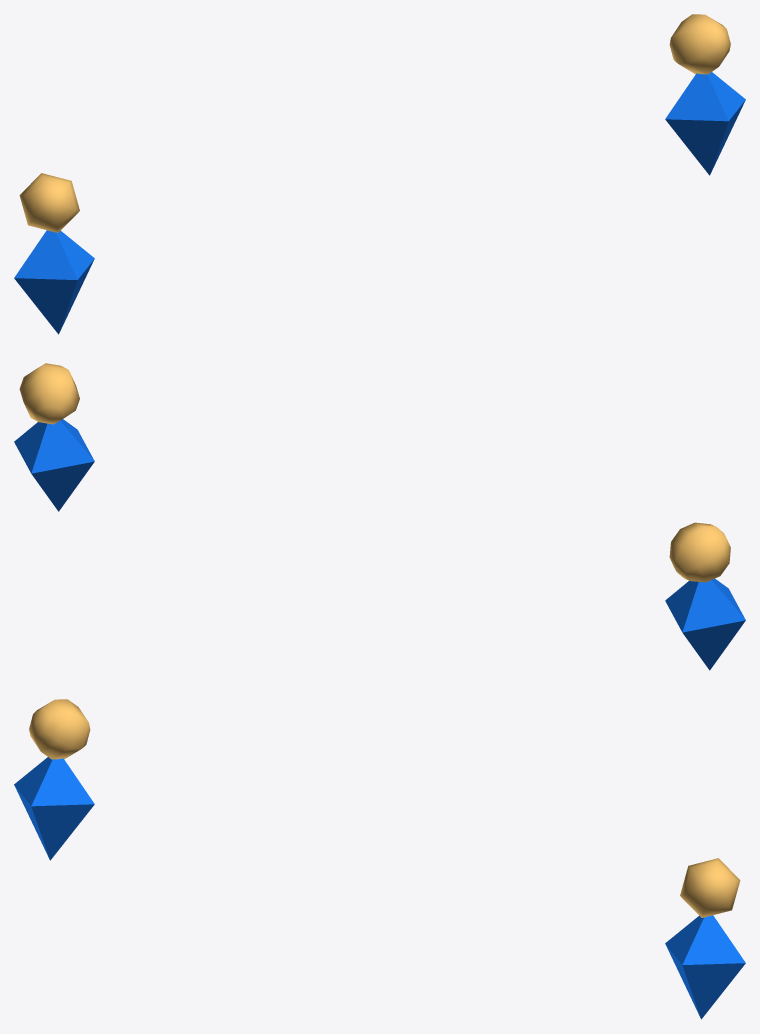
The model's file is Earring_11.fbx.
3 views of the same model, one above another, from view 1: azimuth 30°, elevation 25°; view 2: azimuth 150°, elevation 25°; view 3: azimuth 330°, elevation 25° (orthographic).
Visible parts, largest first — view 1: Earring_11; view 2: Earring_11; view 3: Earring_11.
Part boxes in pixels (<box>): Earring_11: <box>14,14,745,334</box>; Earring_11: <box>14,363,745,670</box>; Earring_11: <box>14,699,745,1019</box>.
Size of the model in its own units: 57.81 by 11.5 by 6.34.
